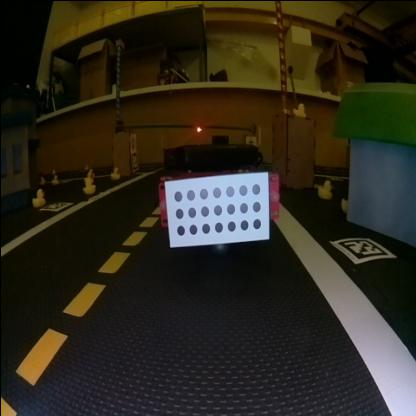Duckie: (318, 178, 329, 198), (31, 189, 44, 203), (292, 102, 304, 115), (109, 166, 118, 178)
Duckiebot: (158, 144, 278, 238)
QR code: (330, 236, 390, 262), (39, 201, 71, 209), (129, 154, 136, 170)
Signal sign: (128, 134, 134, 150)
Traffic light: (194, 125, 200, 130)
